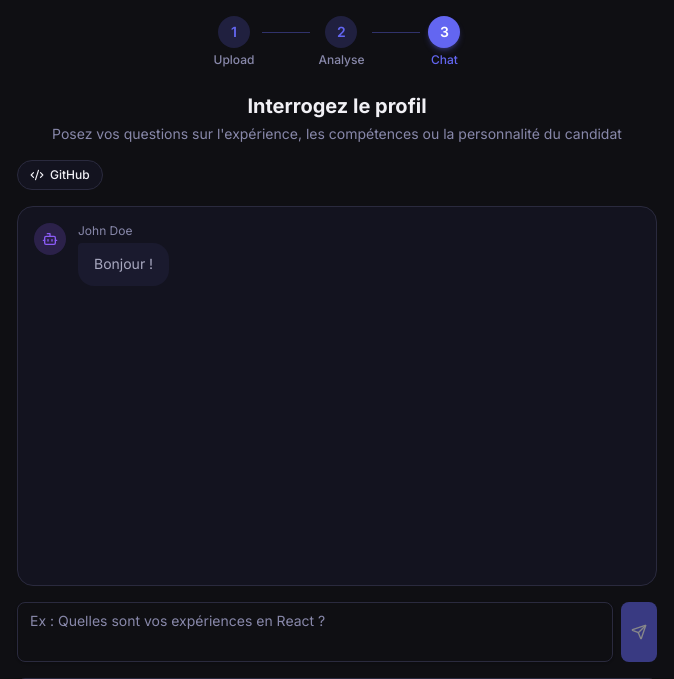
HomePage — Step 3 (Chat) › displays user message after sending
Type "Quelles sont vos compétences ?" into the text box with placeholder "Ex : Quelles sont vos expériences en React ?" at (315, 632), box [17,602,613,662]
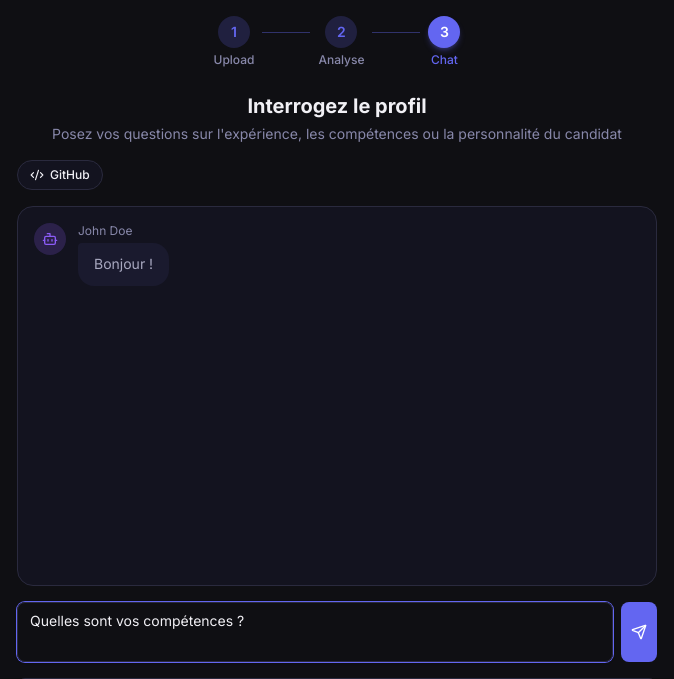
Click the button named "envoyer" at (639, 632), box [621,602,657,662]
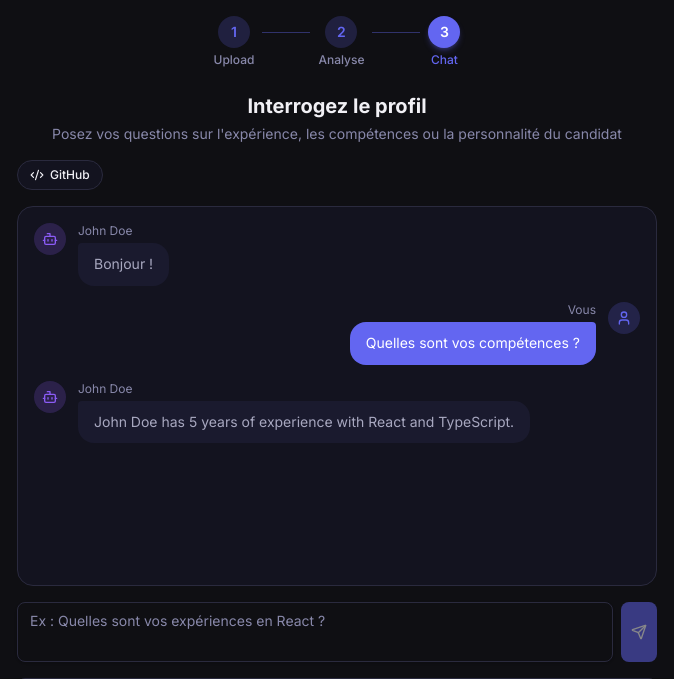
Expected: the text "Quelles sont vos compétences ?" is shown, [350,322,596,365]
